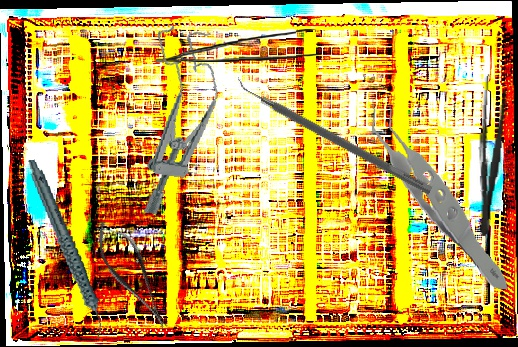Dressing Forceps: (471, 73, 509, 237)
Handpiece: (27, 152, 106, 346)
Micro Scissor: (84, 211, 181, 340)
Spatula Surgical: (231, 72, 438, 196)
Speculum: (130, 23, 227, 221)
Tissue Forceps: (369, 86, 510, 299), (155, 29, 322, 63)
